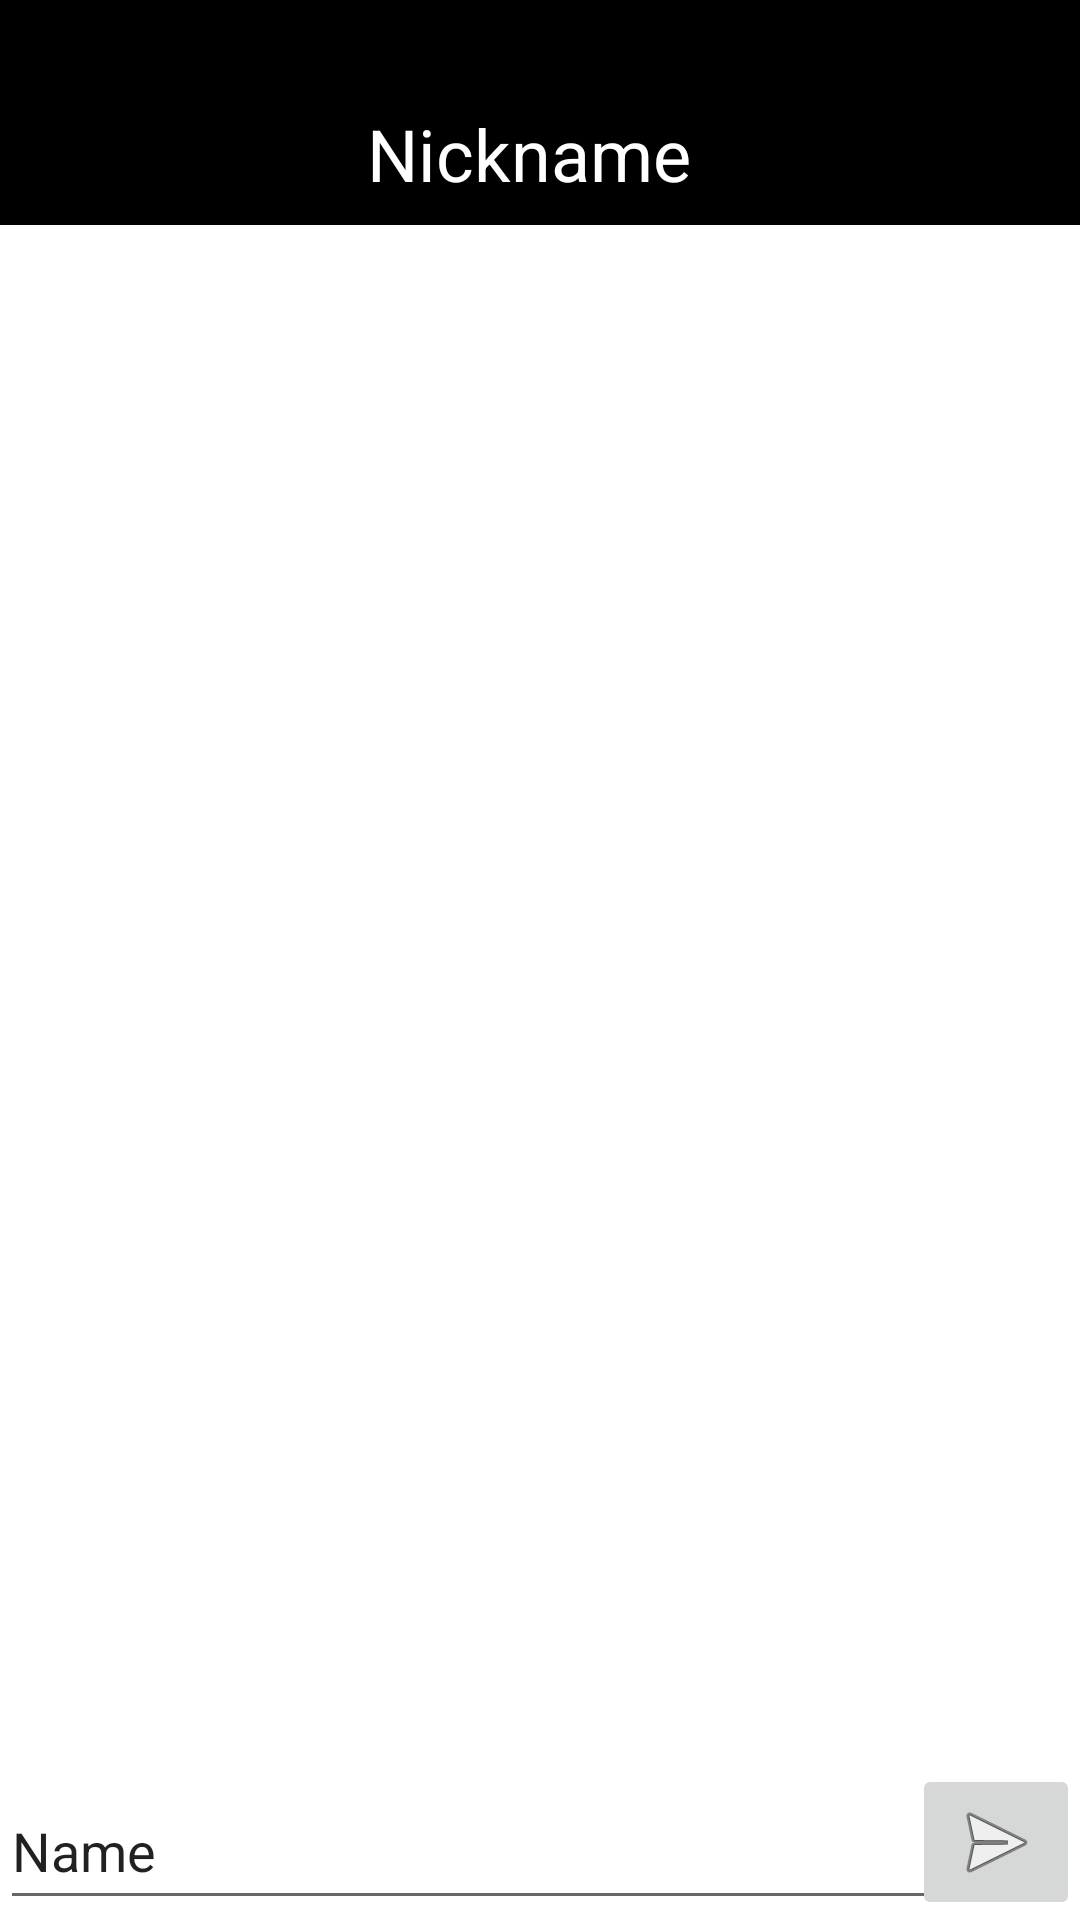

Icons on this 1080 × 1920 Android screen, each with its box as Rect(x1, y1, x2, y2):
send: Rect(912, 1782, 1068, 1902)
